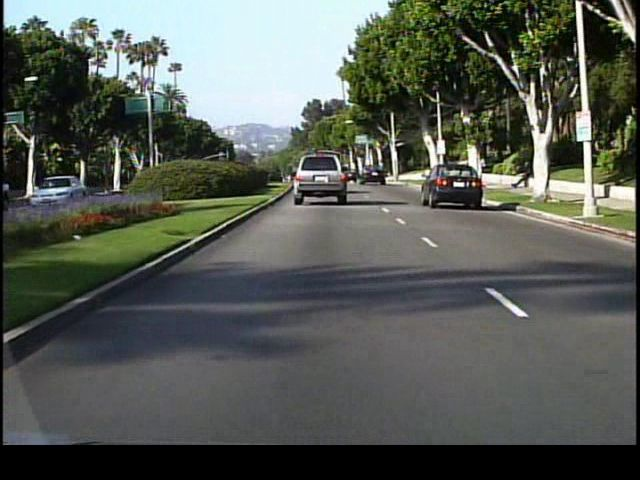person: (511, 157, 533, 193)
